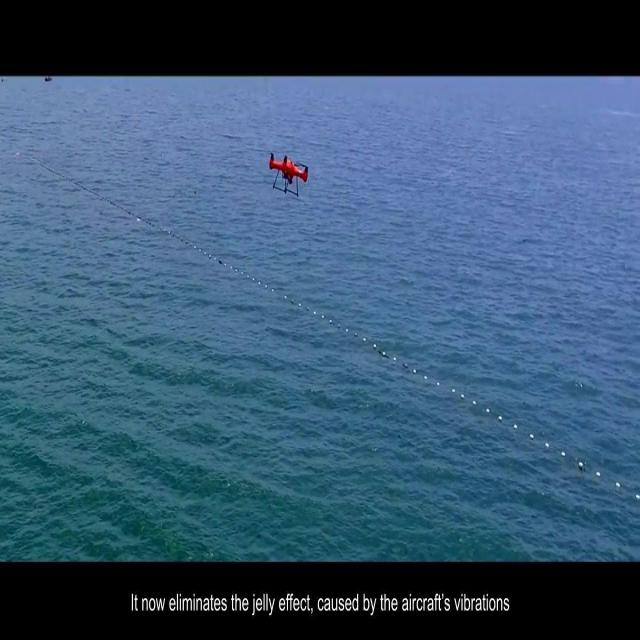UAV: (269, 153, 308, 197)
